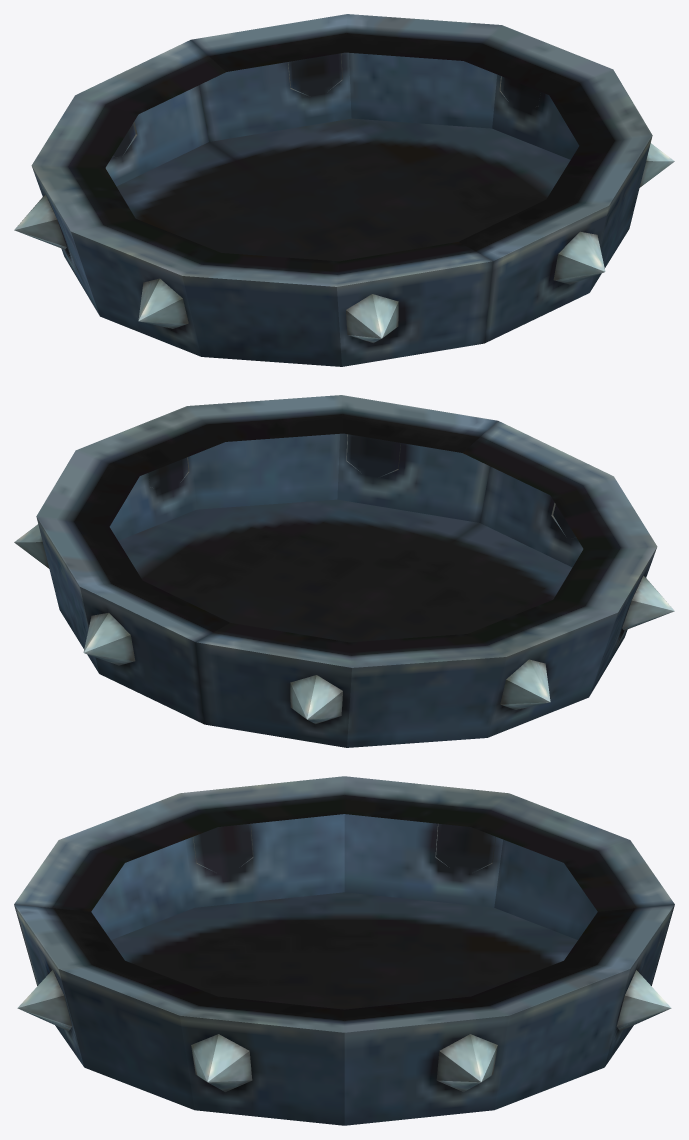
The model's file is Panda_brawlerCollar.obj.
The picture shows the model from 3 angles, top to bottom: view 1: azimuth 30°, elevation 25°; view 2: azimuth 150°, elevation 25°; view 3: azimuth 270°, elevation 25°; orthographic projection. The views are drawn at different scales.
Visible parts, largest first — view 1: Panda_brawlerCollar_tri; view 2: Panda_brawlerCollar_tri; view 3: Panda_brawlerCollar_tri.
Part boxes in pixels (left/top/right/bottom): Panda_brawlerCollar_tri: left=14, top=14, right=674, bottom=366; Panda_brawlerCollar_tri: left=14, top=395, right=674, bottom=747; Panda_brawlerCollar_tri: left=14, top=776, right=674, bottom=1125.
Bounding box in the file's own units: 0.3747 × 0.0804 × 0.3621.
Materials: 1 (1 with a texture image).
